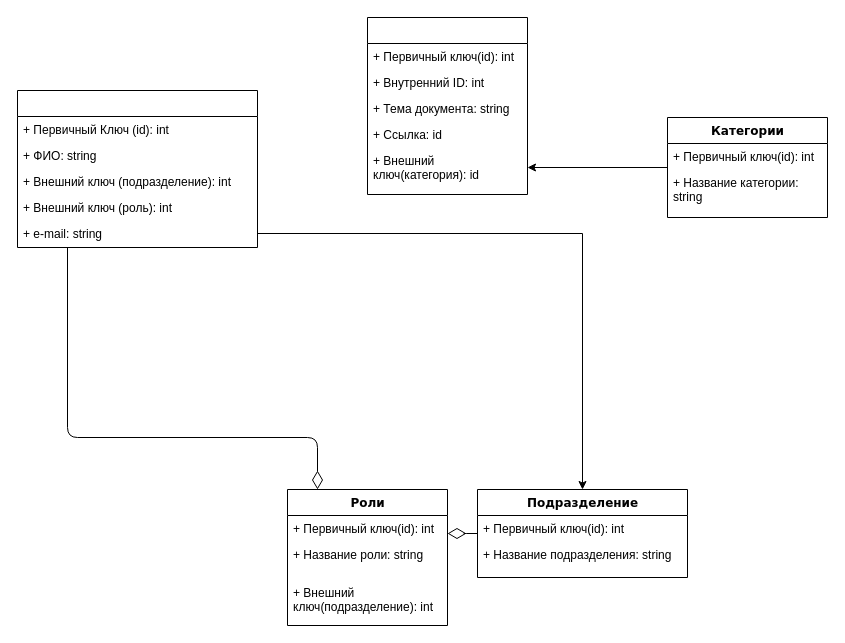
Some shapes in this 845 by 643 pixel diagram are drawn without their labels. The shapes that lost their labels are listed below. From the top down, each one's box as (x1, y1, x2, y2) in pixels, then its label:
(366, 16, 528, 194): Документы
(16, 90, 258, 248): Пользователи
